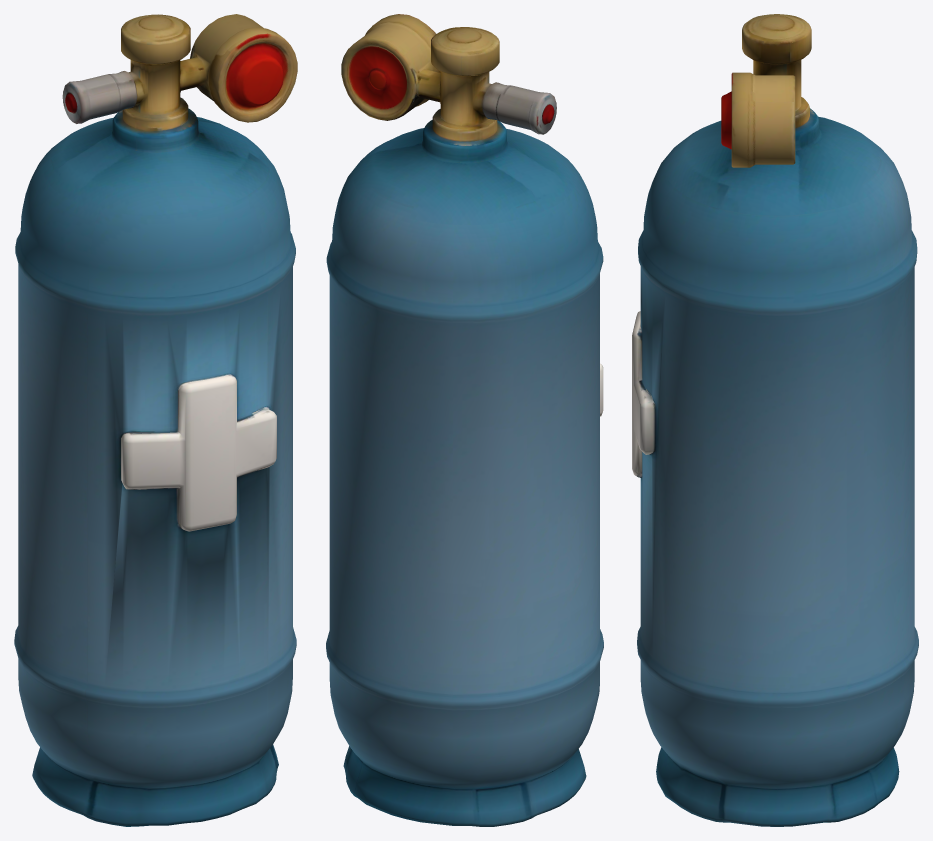
The model's file is Medical__oxygen_tank_medical_realistic_style_01a3b4e2_v1.cluster.glb.
The picture shows the model from 3 angles, left to right: view 1: azimuth 30°, elevation 25°; view 2: azimuth 150°, elevation 25°; view 3: azimuth 270°, elevation 25°; orthographic projection.
Visible parts, largest first — view 1: mesh_input; view 2: mesh_input; view 3: mesh_input.
Part boxes in pixels (left/top/right/bottom): mesh_input: left=14, top=14, right=297, bottom=826; mesh_input: left=326, top=14, right=603, bottom=826; mesh_input: left=632, top=14, right=918, bottom=826.
Bounding box in the file's own units: 0.6407 × 1.9 × 0.6524.
1 material, 1 textured.
